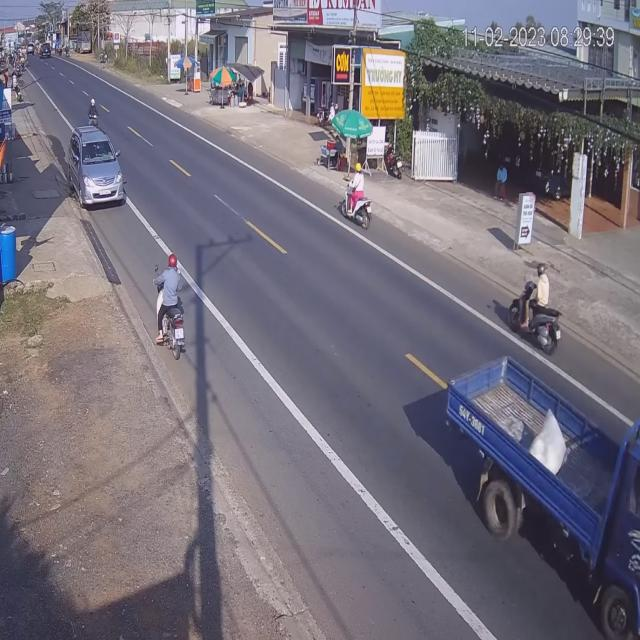car: (67, 129, 124, 211)
motorbike: (511, 267, 565, 358), (154, 253, 188, 360), (344, 172, 372, 230), (90, 96, 100, 127)
truck: (446, 330, 639, 636)
